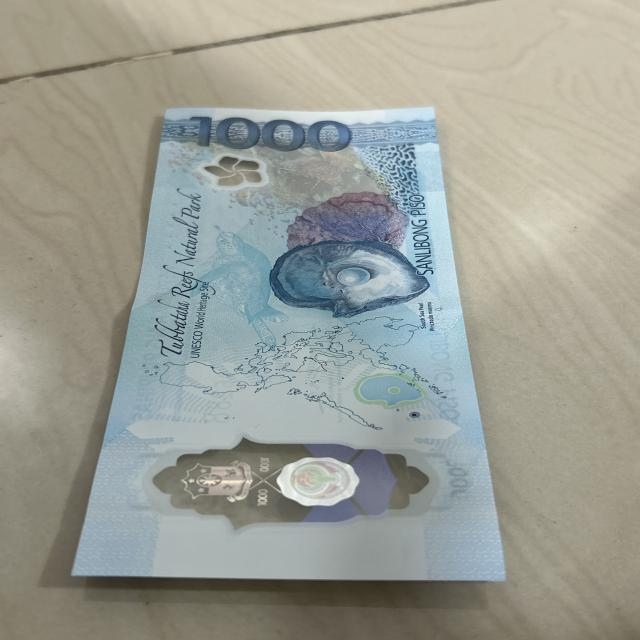clear_window: (125, 437, 442, 523)
sampaguita: (200, 155, 269, 193)
